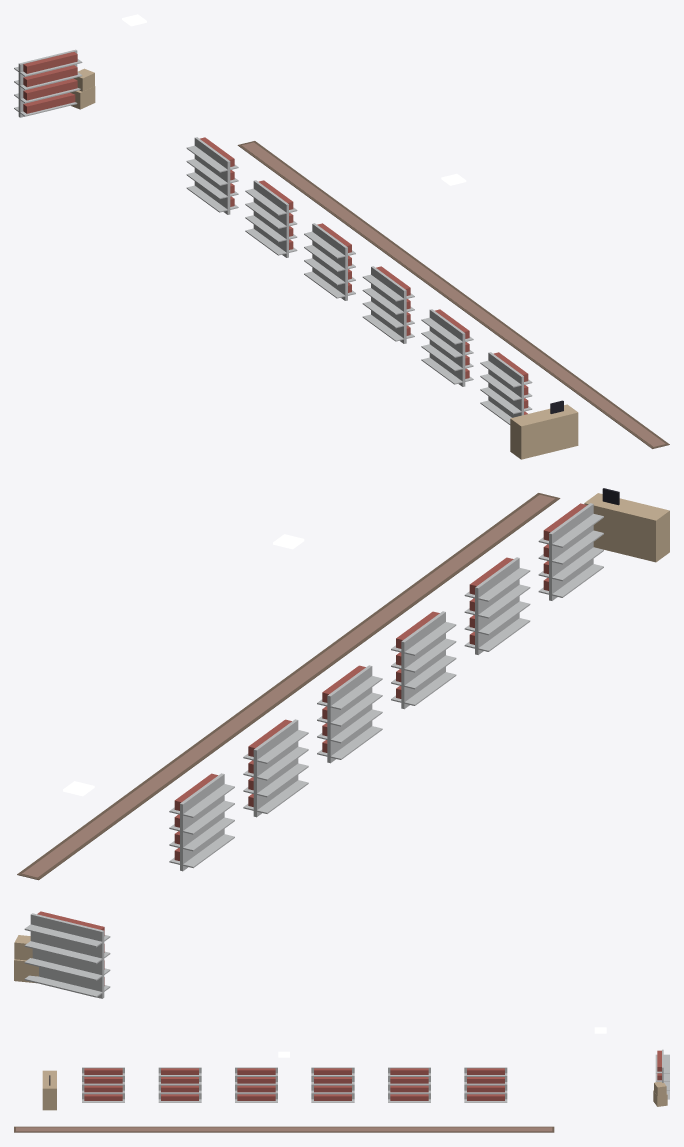
The model's file is fine-s0.glb.
3 views of the same model, one above another, from view 1: azimuth 30°, elevation 25°; view 2: azimuth 150°, elevation 25°; view 3: azimuth 270°, elevation 25° (orthographic). The views are drawn at different scales.
Parts seen in each view (by area): view 1: soft-s0, shelving.000, shop-counter.000, shelf.004, shelf.000, shelf.001, shelf.003, shelf.002, shelf.005, cardboard-box.000; view 2: soft-s0, shelving.000, shelf.001, shelf.004, shelf.002, shelf.000, shelf.005, shelf.003, shop-counter.000, cardboard-box.000; view 3: soft-s0, shelf.000, shelf.002, shelf.004, shelf.001, shelf.003, shelf.005, shop-counter.000, shelving.000, cardboard-box.000.
Boxes of the visible parts, <box> form: soft-s0: <box>237,141,669,448</box>; shelving.000: <box>14,49,82,117</box>; shop-counter.000: <box>510,400,578,459</box>; shelf.004: <box>421,309,473,386</box>; shelf.000: <box>186,137,238,214</box>; shelf.001: <box>245,180,297,257</box>; shelf.003: <box>362,266,414,343</box>; shelf.002: <box>304,223,355,300</box>; shelf.005: <box>480,352,532,424</box>; cardboard-box.000: <box>70,68,95,109</box>; soft-s0: <box>17,493,560,880</box>; shelving.000: <box>24,911,110,998</box>; shelf.001: <box>243,719,308,817</box>; shelf.004: <box>464,557,530,654</box>; shelf.002: <box>317,665,382,763</box>; shelf.000: <box>169,773,234,871</box>; shelf.005: <box>538,503,603,600</box>; shelf.003: <box>391,611,456,709</box>; shop-counter.000: <box>584,488,669,562</box>; cardboard-box.000: <box>14,935,38,983</box>; soft-s0: <box>14,1126,554,1132</box>; shelf.000: <box>464,1067,507,1102</box>; shelf.002: <box>311,1067,354,1102</box>; shelf.004: <box>158,1067,201,1102</box>; shelf.001: <box>388,1067,430,1102</box>; shelf.003: <box>235,1067,277,1102</box>; shelf.005: <box>82,1067,124,1102</box>; shop-counter.000: <box>42,1070,56,1110</box>; shelving.000: <box>655,1049,669,1099</box>; cardboard-box.000: <box>653,1082,667,1106</box>.
Bounding box in the file's own units: 4.79 × 3.49 × 27.45.
